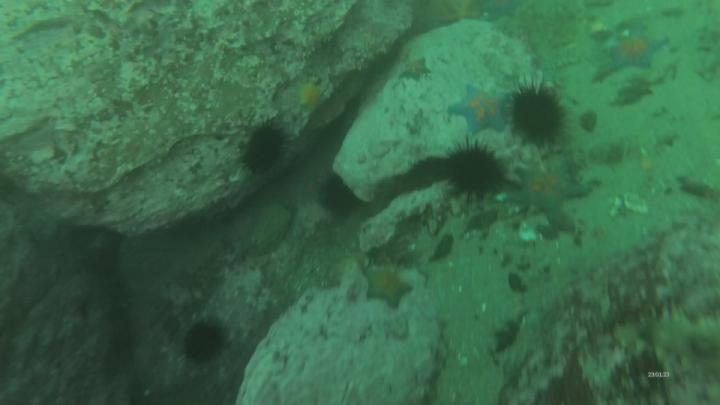echinus: (513, 90, 563, 142), (447, 149, 503, 191), (182, 325, 225, 364), (245, 129, 283, 170), (321, 180, 358, 216)
starfish: (512, 159, 588, 208), (454, 83, 506, 132), (613, 26, 667, 70), (367, 271, 412, 307), (295, 82, 327, 110), (403, 57, 430, 81)
